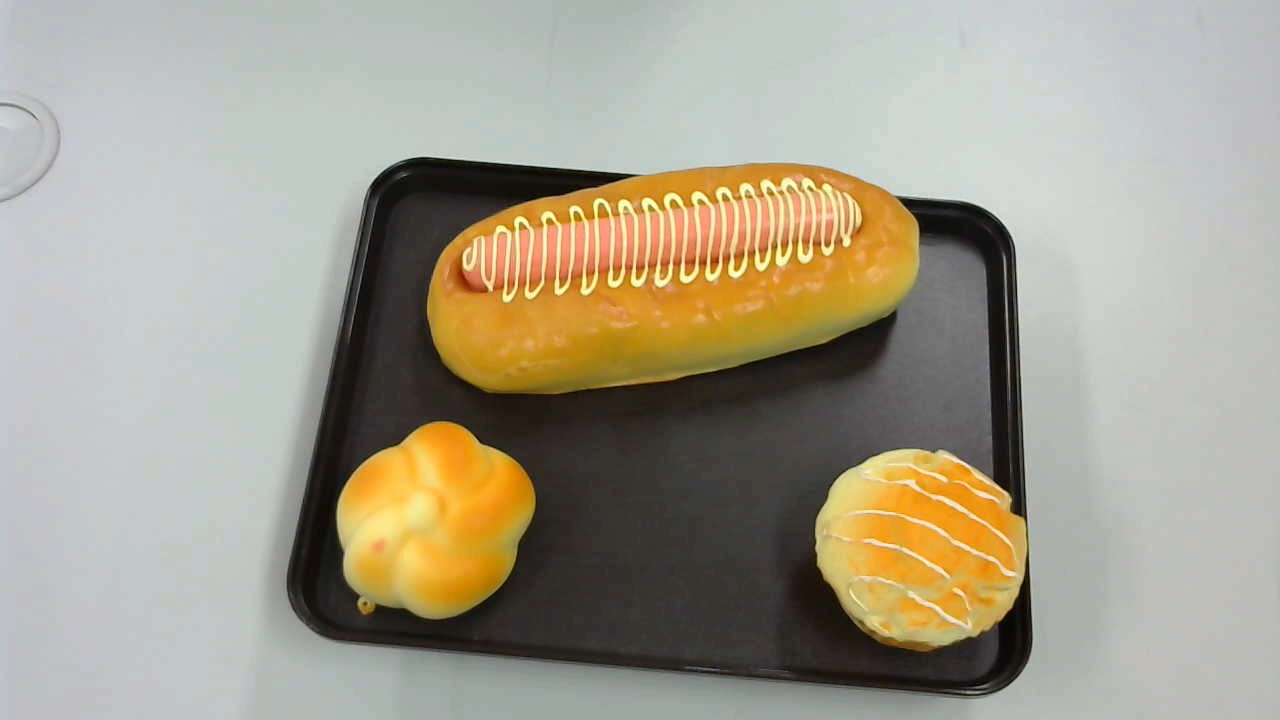croissant: (334, 422, 535, 615)
cupcake: (815, 445, 1028, 654)
hot dog: (427, 165, 920, 398)
